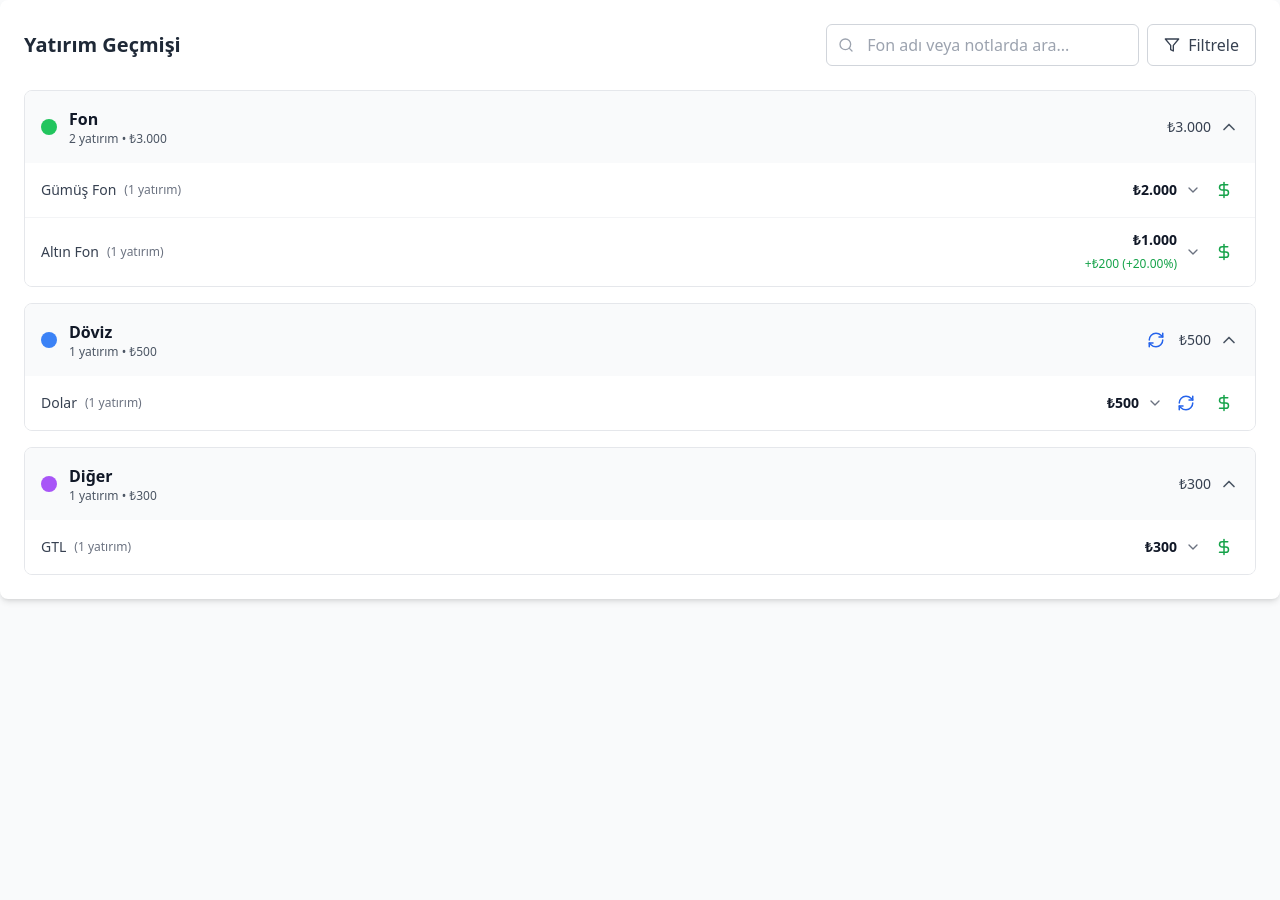
Test case: InvestmentList › Filter functionality › should filter by investment type
Step 1. Click the button with aria-label "filtreleri göster" → (1202, 45), box [1147,24,1256,66]
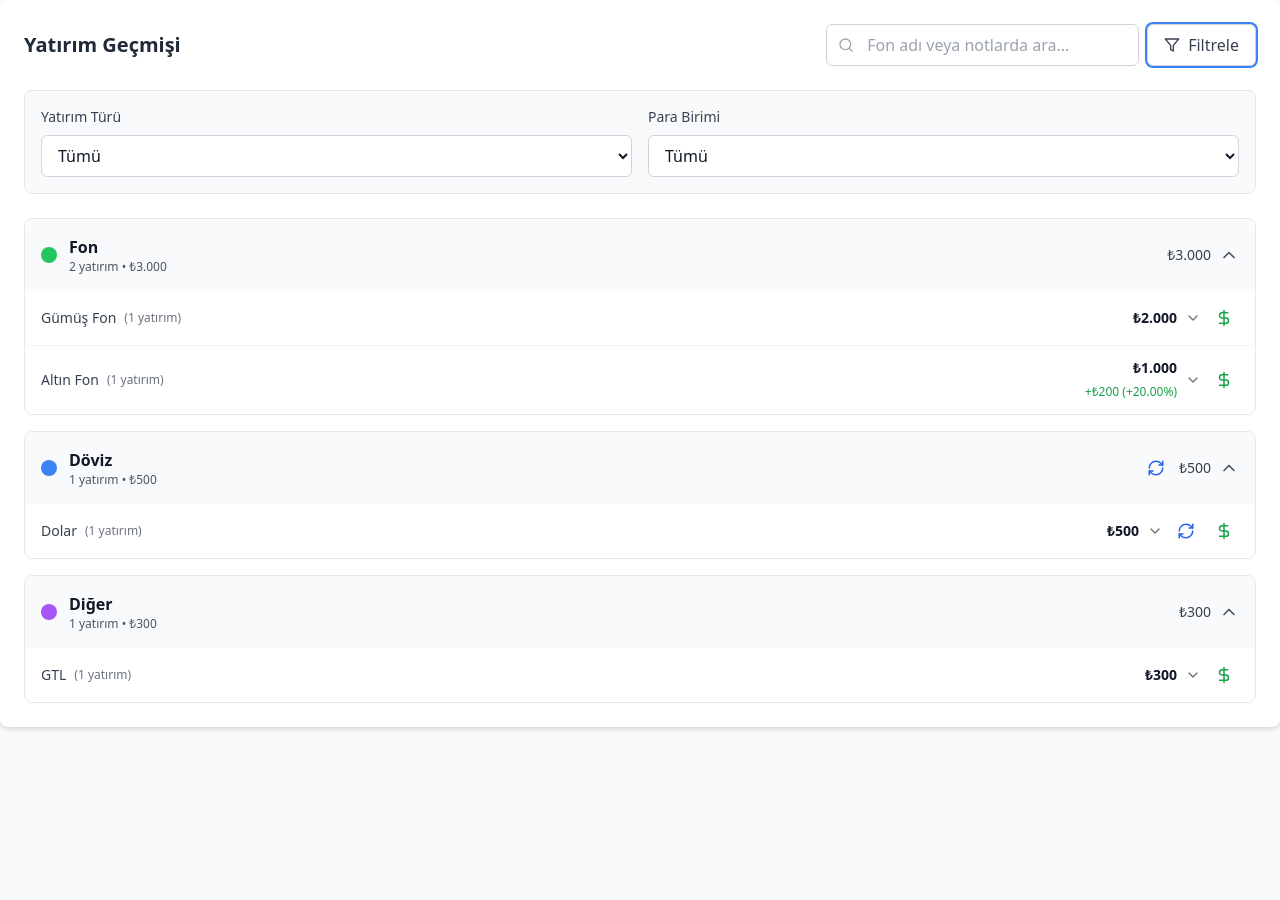
Step 2. Select "Fon" in the dropdown named "yatırım türüne göre filtrele" → (336, 156), box [41,135,632,177]
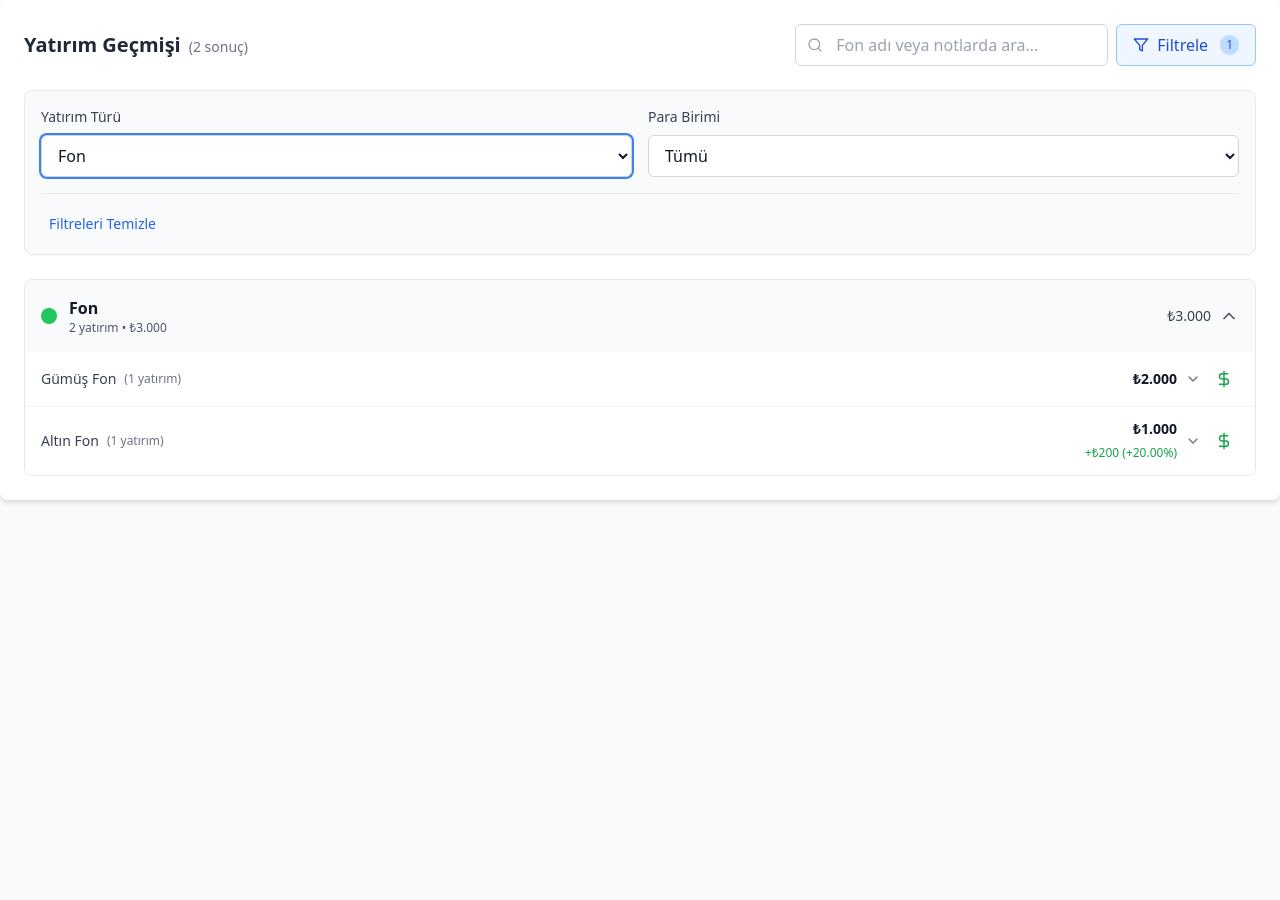
Expected: the text "(2 sonuç)" is shown, [189,37,248,56]
